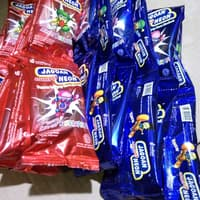jagoan_neon: (21, 55, 99, 169), (146, 5, 194, 88), (21, 1, 85, 55)
